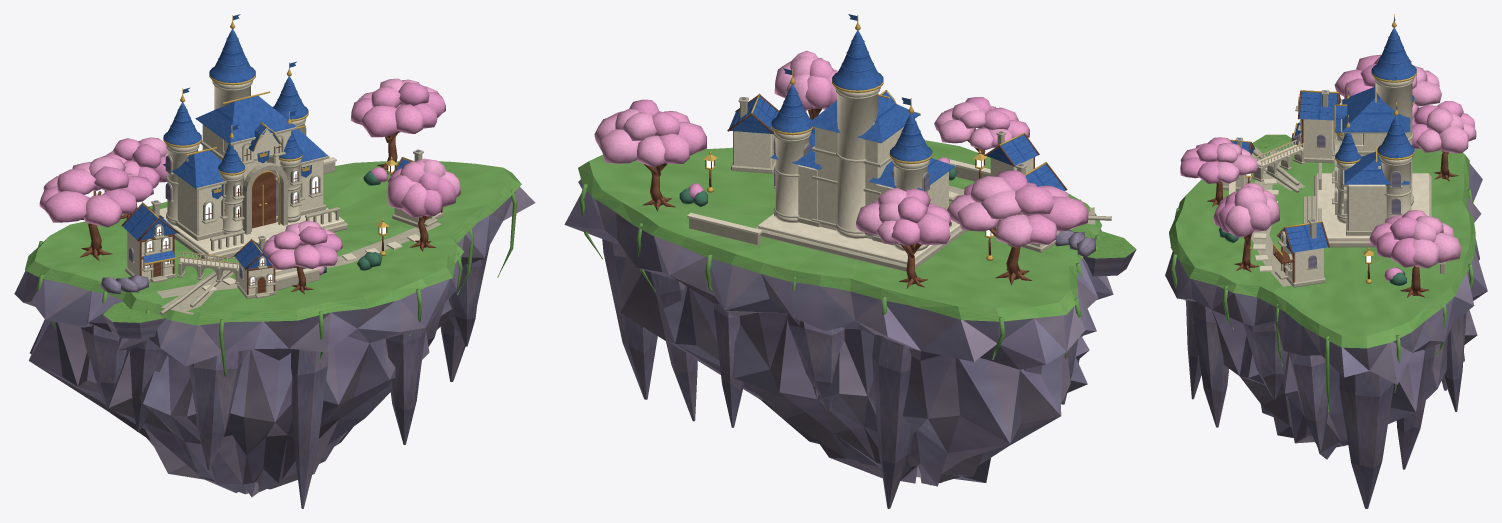
The model's file is royal-island-left.glb.
3 renders of one model, left to right at view 1: azimuth 30°, elevation 25°; view 2: azimuth 150°, elevation 25°; view 3: azimuth 270°, elevation 25°, orthographic. The views are drawn at different scales.
Parts seen in each view (by area): view 1: royal-island-left; view 2: royal-island-left; view 3: royal-island-left.
Boxes of the visible parts, x1=… form: royal-island-left: x1=14, y1=14, x2=535, y2=508; royal-island-left: x1=564, y1=14, x2=1136, y2=508; royal-island-left: x1=1165, y1=14, x2=1487, y2=508.
Bounding box in the file's own units: 19.86 × 17.5 × 11.83.
Materials: 10 (10 with a texture image).
